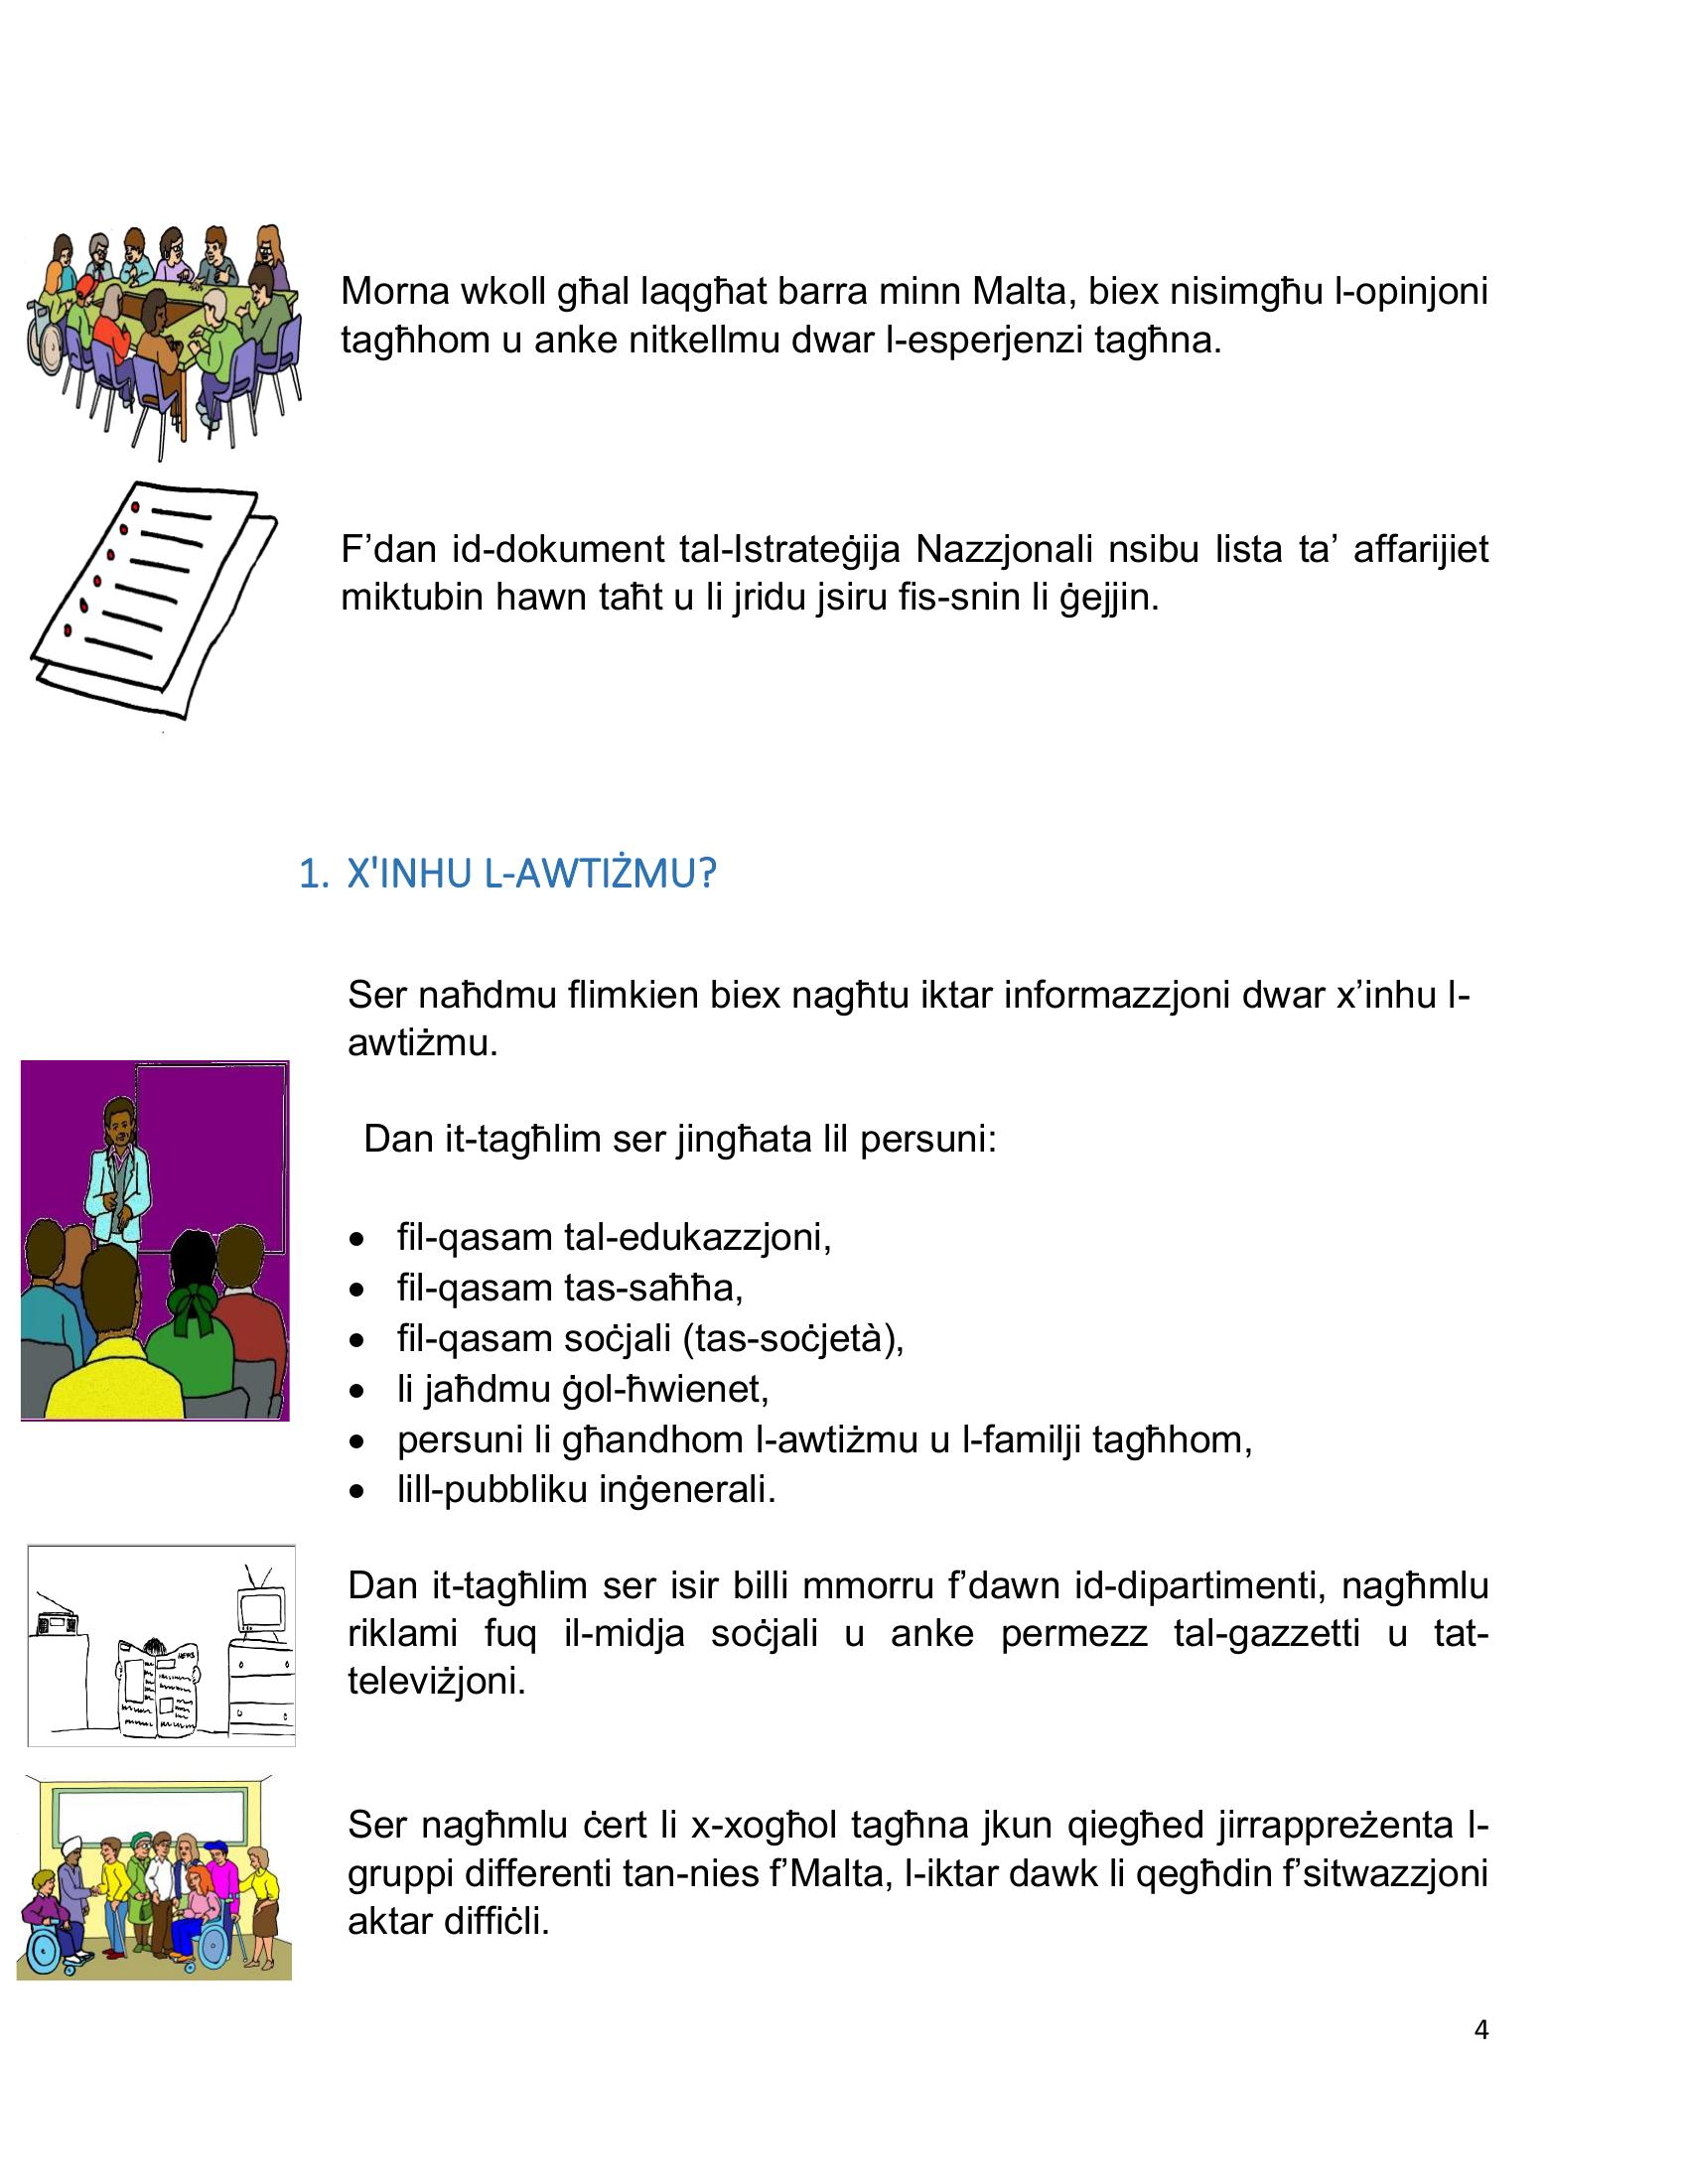text: (330, 950, 1504, 1952), (324, 257, 1521, 654), (268, 826, 746, 916)
